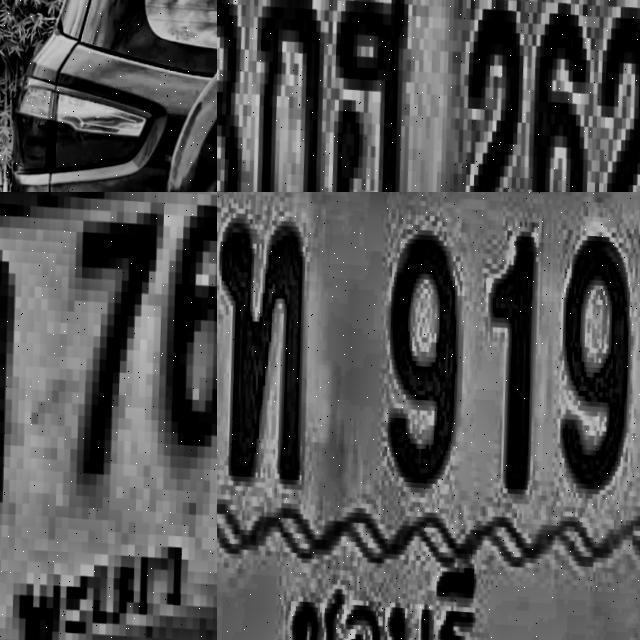license-plate: (217, 192, 640, 640), (0, 192, 217, 640), (217, 0, 640, 192)
